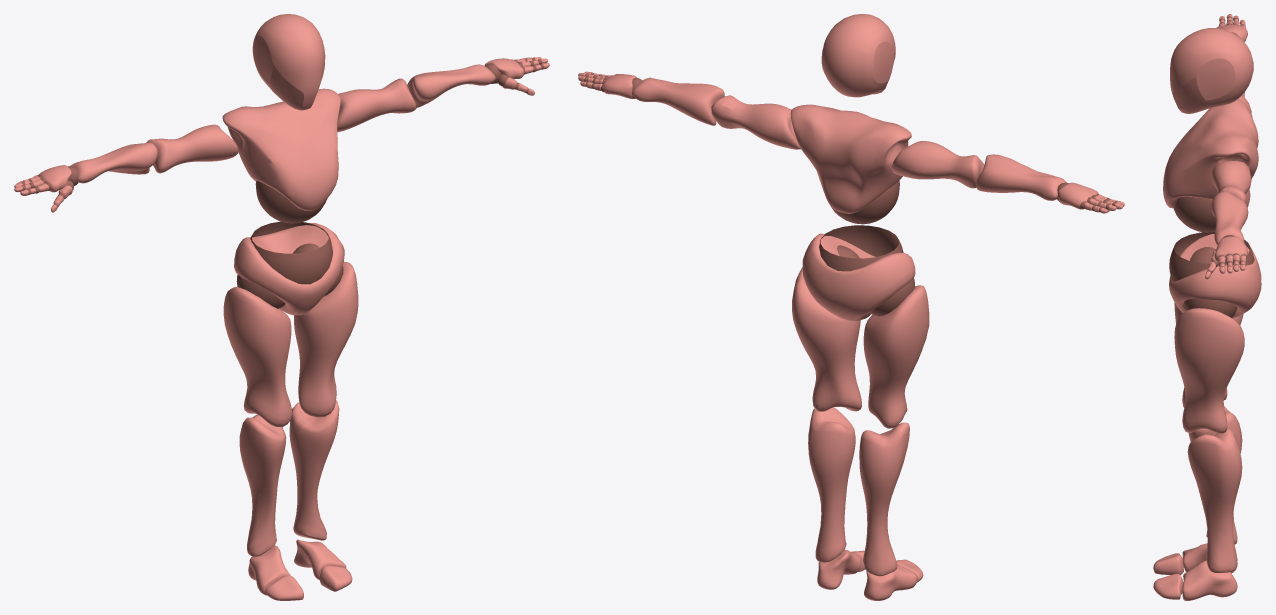
The model's file is champion.fbx.
3 views of the same model, side by side, from view 1: azimuth 30°, elevation 25°; view 2: azimuth 150°, elevation 25°; view 3: azimuth 270°, elevation 25° (orthographic). The views are drawn at different scales.
Visible parts, largest first — view 1: Buste, Pelvis, leg_upper_r, leg_upper_l, head, leg_lower_r, leg_lower_l, arm_lower_r, arm_lower_l, arm_upper_r, arm_upper_l, feet_r (+1 smaller); view 2: Buste, Pelvis, leg_upper_r, leg_upper_l, leg_lower_l, head, leg_lower_r, arm_lower_r, arm_lower_l, arm_upper_r, arm_upper_l, feet_r (+1 smaller); view 3: Buste, leg_upper_l, head, Pelvis, leg_lower_l, arm_lower_l, feet_l, arm_upper_l, feet_r, leg_lower_r, arm_lower_r, leg_upper_r.
Boxes of the visible parts, x1=… form: Buste: x1=222, y1=88, x2=340, y2=223; Pelvis: x1=234, y1=221, x2=344, y2=315; leg_upper_r: x1=223, y1=287, x2=292, y2=427; leg_upper_l: x1=294, y1=261, x2=358, y2=417; head: x1=252, y1=14, x2=325, y2=110; leg_lower_r: x1=239, y1=414, x2=286, y2=556; leg_lower_l: x1=289, y1=400, x2=339, y2=540; arm_lower_r: x1=14, y1=142, x2=157, y2=212; arm_lower_l: x1=407, y1=57, x2=549, y2=107; arm_upper_r: x1=146, y1=124, x2=238, y2=173; arm_upper_l: x1=337, y1=78, x2=416, y2=132; feet_r: x1=248, y1=545, x2=303, y2=600; Buste: x1=790, y1=104, x2=911, y2=224; Pelvis: x1=802, y1=225, x2=915, y2=321; leg_upper_r: x1=863, y1=285, x2=929, y2=428; leg_upper_l: x1=792, y1=267, x2=861, y2=411; leg_lower_l: x1=808, y1=407, x2=855, y2=562; head: x1=821, y1=14, x2=895, y2=97; leg_lower_r: x1=859, y1=422, x2=909, y2=576; arm_lower_r: x1=976, y1=154, x2=1124, y2=213; arm_lower_l: x1=578, y1=71, x2=724, y2=125; arm_upper_r: x1=891, y1=141, x2=984, y2=188; arm_upper_l: x1=711, y1=95, x2=800, y2=149; feet_r: x1=864, y1=559, x2=923, y2=600; Buste: x1=1163, y1=98, x2=1258, y2=232; leg_upper_l: x1=1174, y1=308, x2=1244, y2=433; head: x1=1170, y1=28, x2=1253, y2=113; Pelvis: x1=1169, y1=231, x2=1261, y2=318; leg_lower_l: x1=1187, y1=429, x2=1242, y2=572; arm_lower_l: x1=1205, y1=191, x2=1248, y2=279; feet_l: x1=1153, y1=560, x2=1237, y2=600; arm_upper_l: x1=1211, y1=160, x2=1251, y2=203; feet_r: x1=1153, y1=543, x2=1237, y2=574; leg_lower_r: x1=1188, y1=406, x2=1242, y2=544; arm_lower_r: x1=1216, y1=14, x2=1247, y2=42; leg_upper_r: x1=1174, y1=302, x2=1243, y2=407.
Size of the model in its own units: 18051 by 18092 by 3207.
